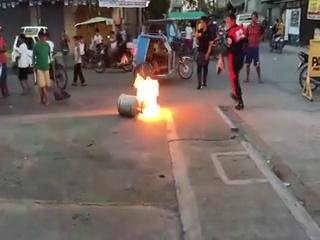Fire: (132, 72, 162, 122)
